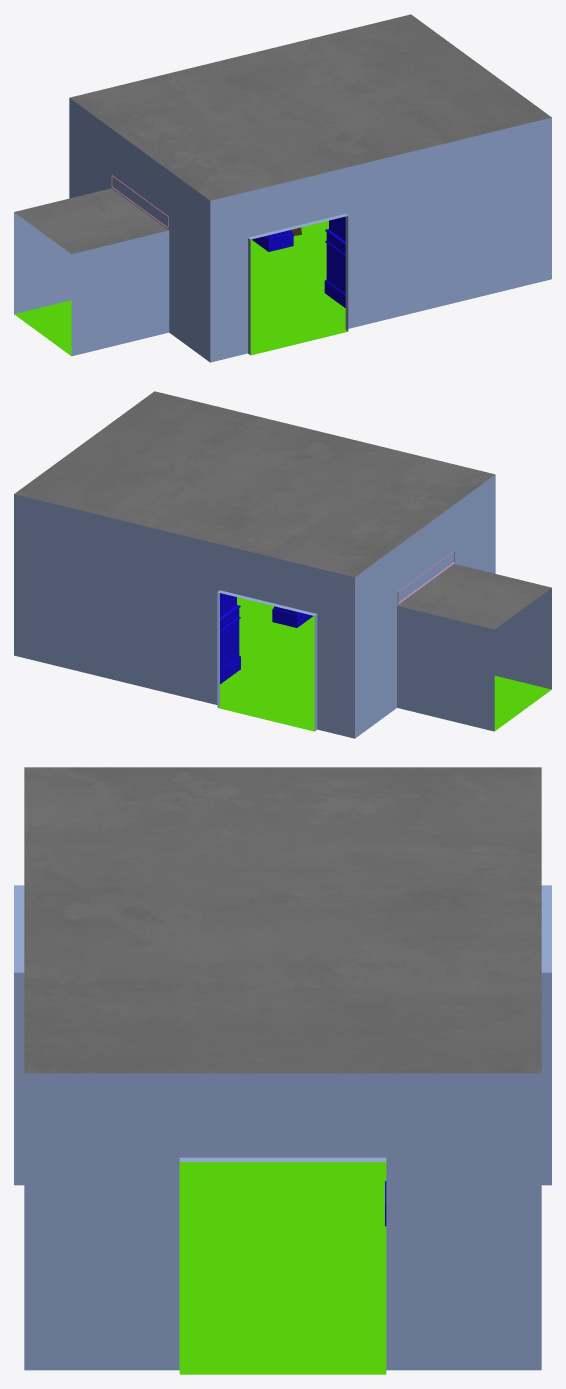
The model's file is RoomS4.fbx.
3 renders of one model, top to bottom at view 1: azimuth 30°, elevation 25°; view 2: azimuth 150°, elevation 25°; view 3: azimuth 270°, elevation 25°, orthographic. The views are drawn at different scales.
Parts seen in each view (by area): view 1: Plane.015, Plane.016, Plane.007, Cube.035; view 2: Plane.015, Plane.016, Plane.007, Cube.035; view 3: Plane.016, Plane.015, Plane.007.
Boxes of the visible parts, x1,y1,x2,y2 form: Plane.015: (14, 98, 551, 362); Plane.016: (14, 14, 551, 254); Plane.007: (14, 220, 347, 355); Cube.035: (252, 216, 345, 307); Plane.015: (14, 474, 551, 738); Plane.016: (14, 391, 551, 629); Plane.007: (217, 597, 551, 731); Cube.035: (220, 593, 313, 684); Plane.016: (24, 767, 541, 1073); Plane.015: (14, 885, 551, 1370); Plane.007: (179, 1162, 386, 1374).
Size of the model in its own units: 910 by 317 by 520.
